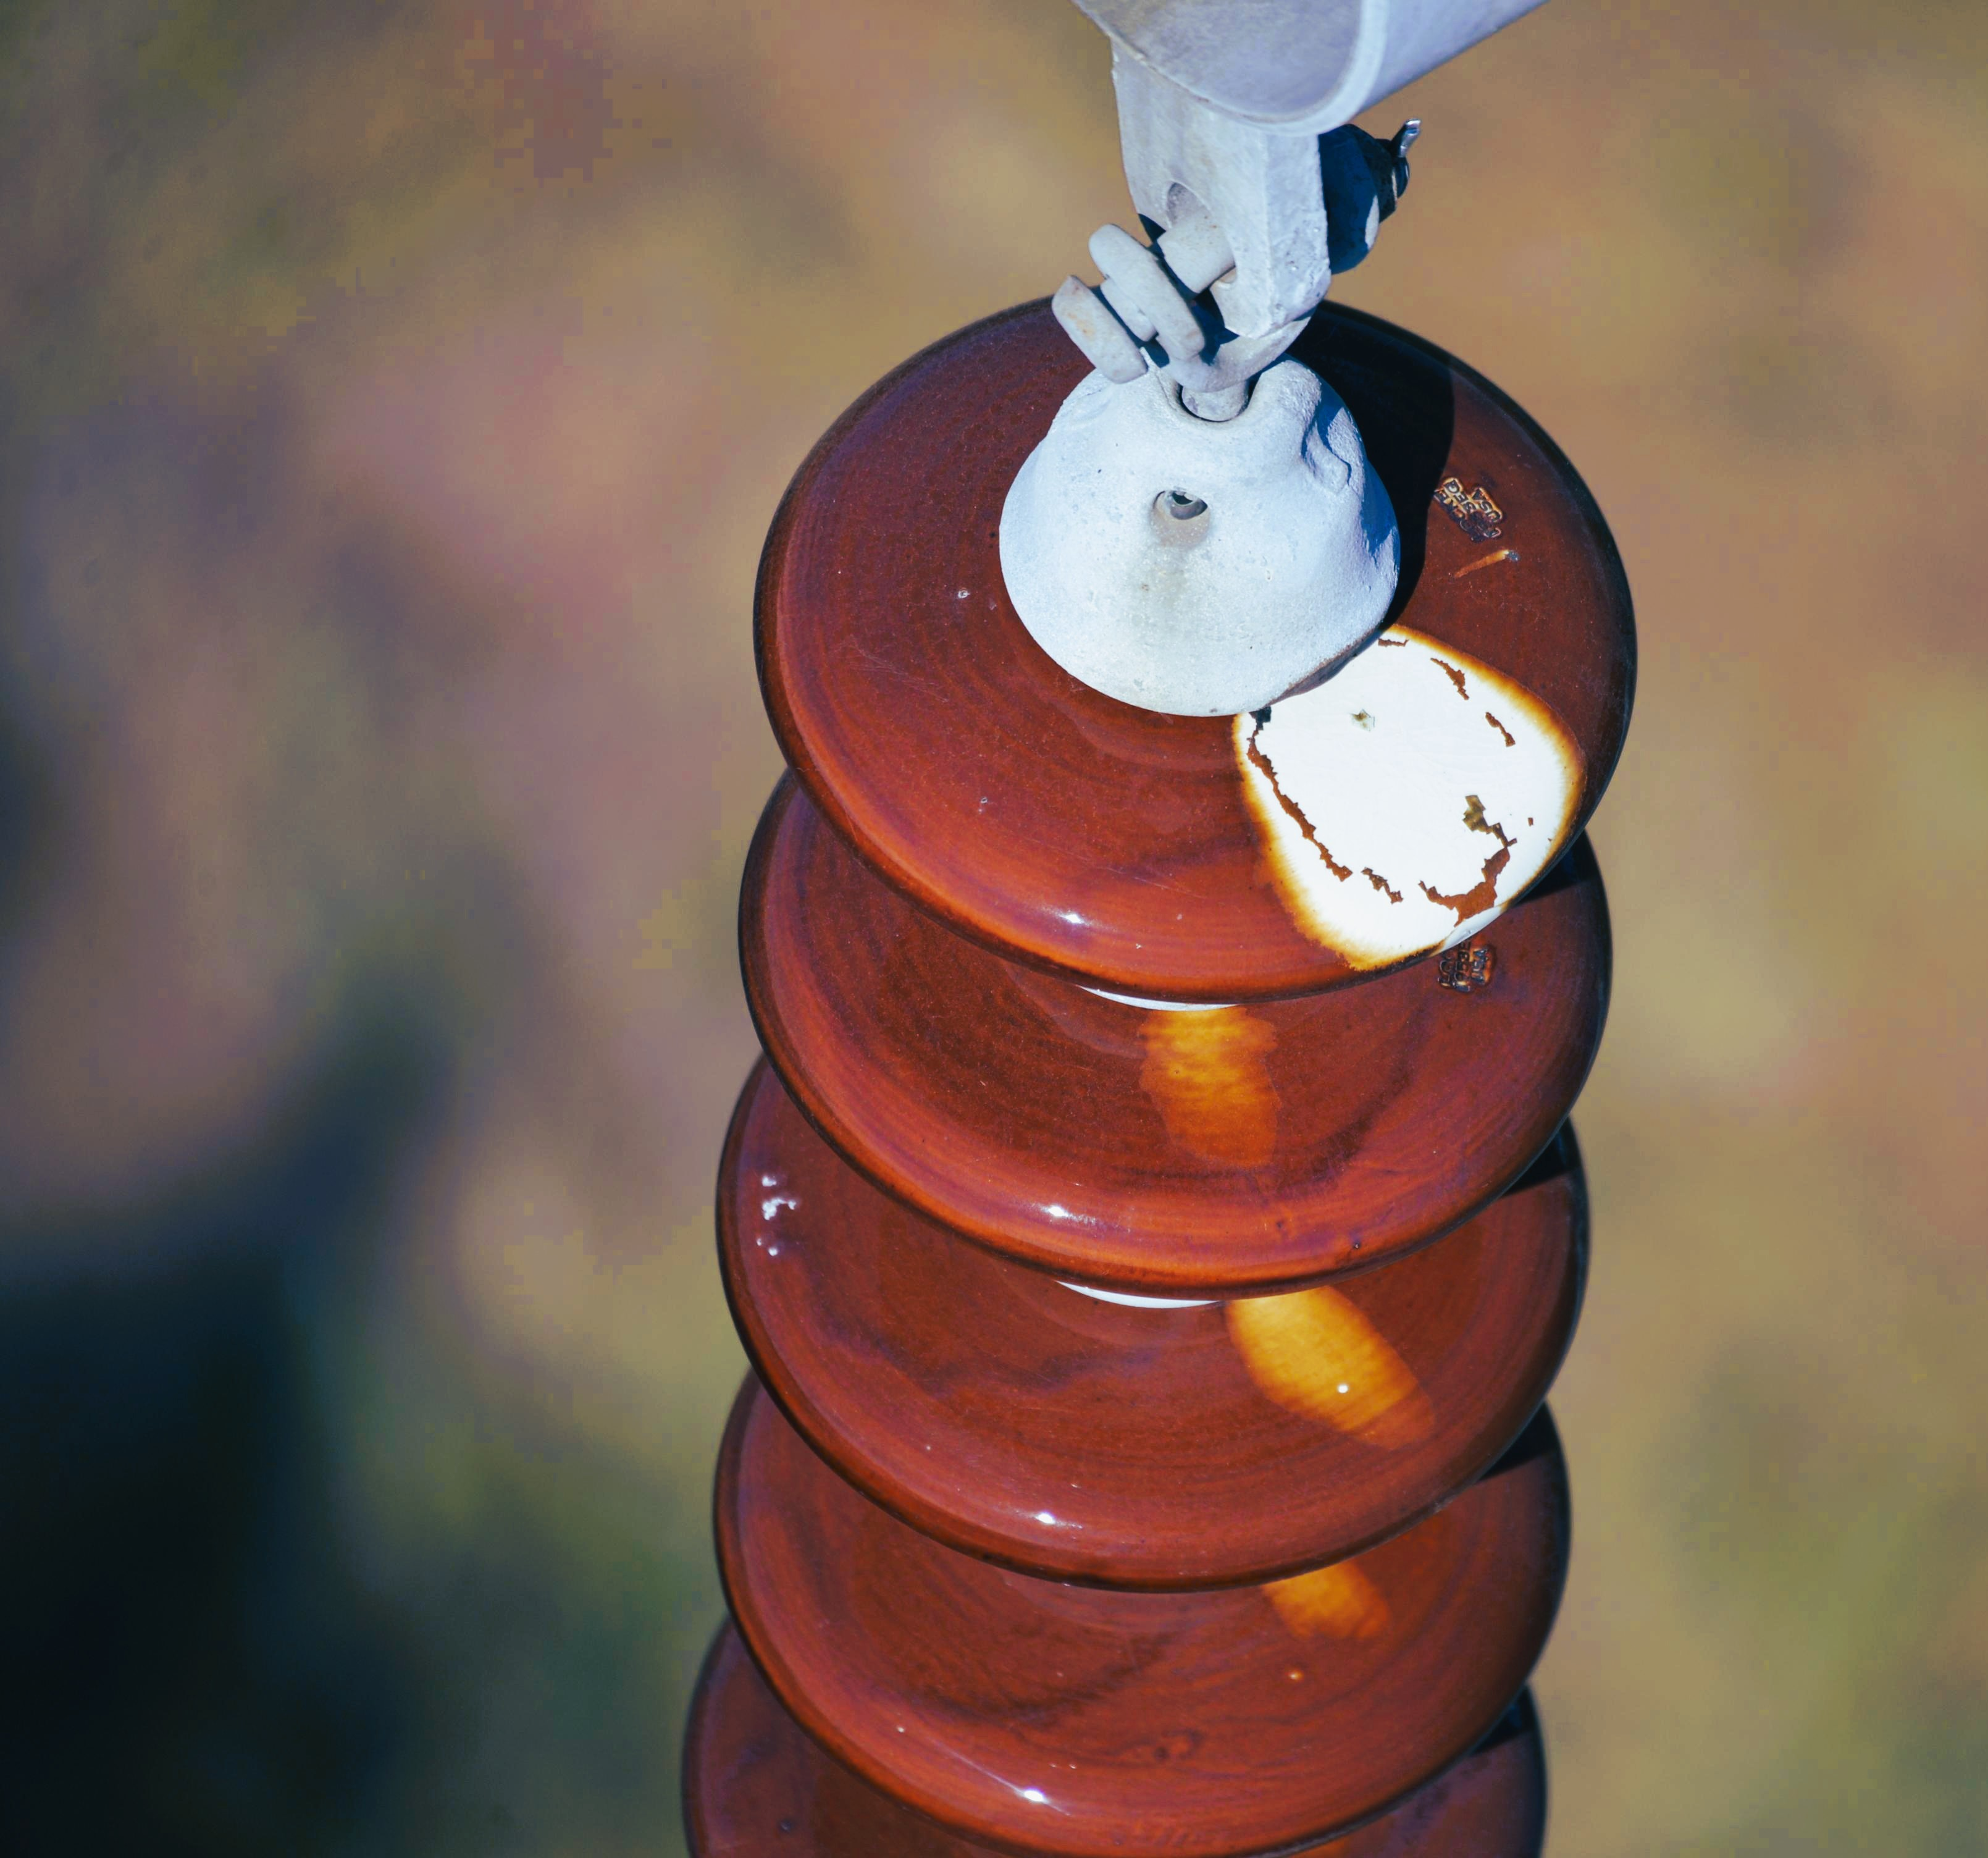Insulator flashover: (740, 253, 1662, 1015)
